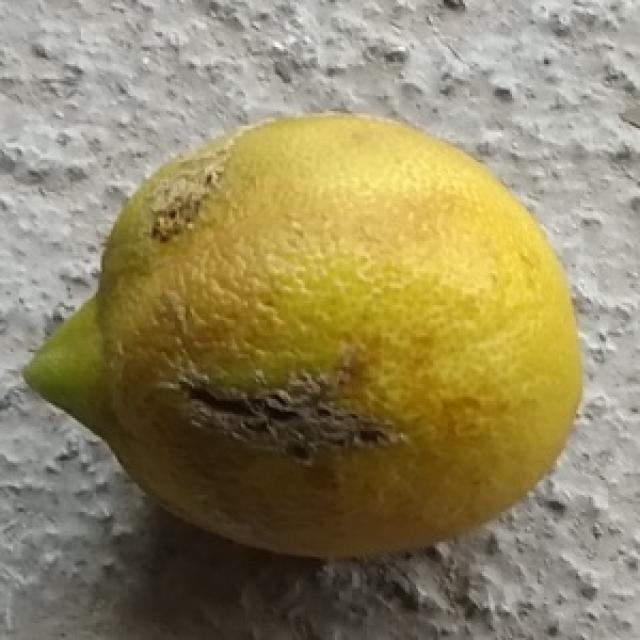overripe: (25, 101, 587, 567)
